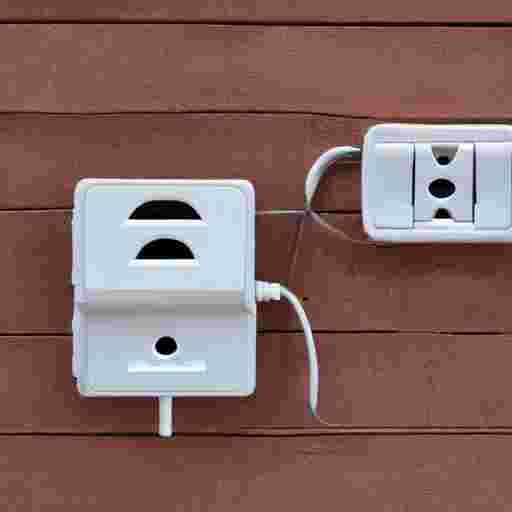power outlet: (72, 178, 255, 396), (362, 124, 511, 241)
